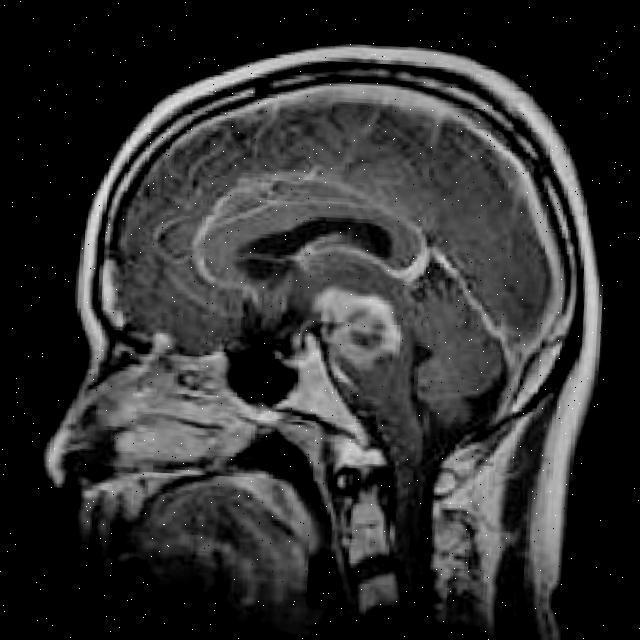MCI: (279, 266, 434, 394)
